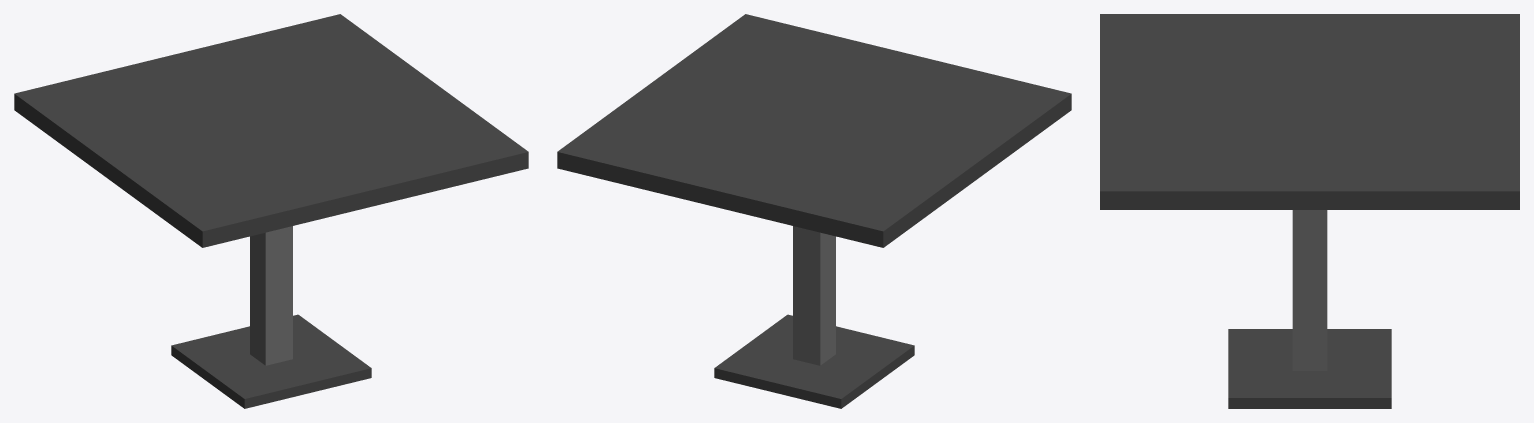
The model's file is Table_06.fbx.
3 views of the same model, side by side, from view 1: azimuth 30°, elevation 25°; view 2: azimuth 150°, elevation 25°; view 3: azimuth 270°, elevation 25° (orthographic). The views are drawn at different scales.
Parts seen in each view (by area): view 1: Table_06; view 2: Table_06; view 3: Table_06.
Part boxes in pixels (bbox=[...]): Table_06: bbox=[14, 14, 528, 408]; Table_06: bbox=[557, 14, 1071, 408]; Table_06: bbox=[1100, 14, 1519, 408].
Size of the model in its own units: 116 by 82.57 by 116.
